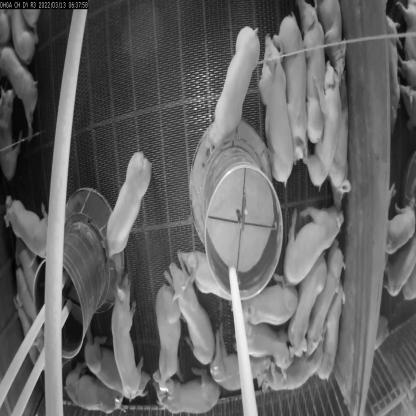Pig: (162, 258, 219, 366), (106, 137, 156, 255), (208, 21, 254, 133), (273, 33, 312, 146), (6, 183, 61, 261), (310, 80, 346, 196), (111, 282, 146, 398), (257, 51, 293, 162), (184, 231, 233, 310), (285, 259, 322, 361), (308, 241, 340, 351), (215, 348, 276, 401), (283, 200, 335, 259), (161, 373, 230, 415), (224, 320, 284, 368), (153, 284, 179, 372), (239, 288, 296, 328), (60, 382, 116, 416), (86, 348, 118, 396)
